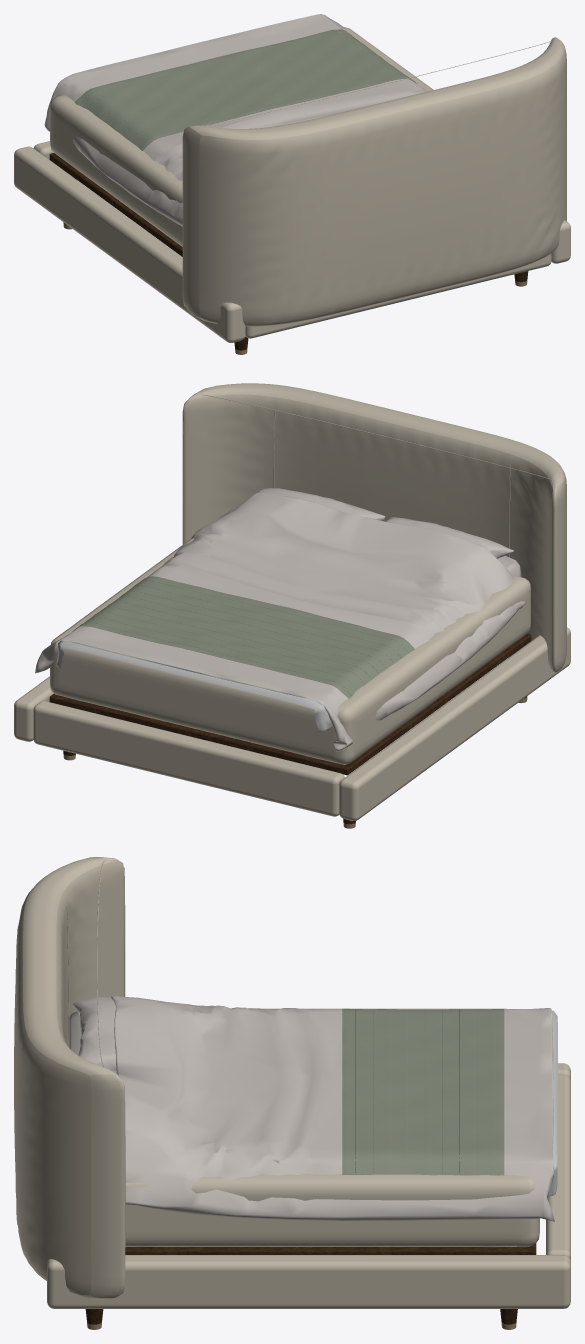
The model's file is atelier-wrap-bed.glb.
The picture shows the model from 3 angles, top to bottom: view 1: azimuth 30°, elevation 25°; view 2: azimuth 150°, elevation 25°; view 3: azimuth 270°, elevation 25°; orthographic projection. The views are drawn at different scales.
Visible parts, largest first — view 1: linen_surfaces, olive_surfaces, heritage_linen_surfaces, walnut_surfaces; view 2: linen_surfaces, heritage_linen_surfaces, olive_surfaces, walnut_surfaces; view 3: linen_surfaces, heritage_linen_surfaces, olive_surfaces, walnut_surfaces.
Part boxes in pixels (bbox=[...]): linen_surfaces: bbox=[14, 27, 570, 342]; olive_surfaces: bbox=[75, 29, 417, 150]; heritage_linen_surfaces: bbox=[44, 14, 427, 226]; walnut_surfaces: bbox=[49, 153, 528, 350]; linen_surfaces: bbox=[14, 383, 570, 820]; heritage_linen_surfaces: bbox=[35, 488, 525, 751]; olive_surfaces: bbox=[72, 576, 414, 698]; walnut_surfaces: bbox=[49, 634, 531, 824]; linen_surfaces: bbox=[14, 857, 570, 1308]; heritage_linen_surfaces: bbox=[69, 995, 557, 1221]; olive_surfaces: bbox=[342, 1008, 504, 1175]; walnut_surfaces: bbox=[85, 1243, 536, 1324].
Size of the model in its own units: 2.19 by 1.31 by 2.34.
5 materials, 2 textured.
